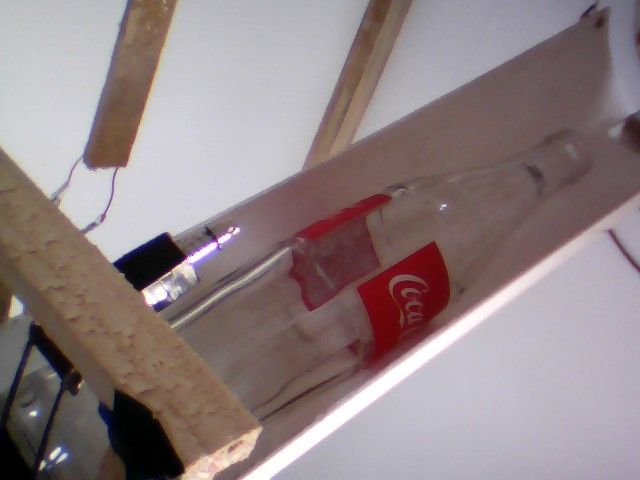vidrio: (176, 124, 603, 416)
